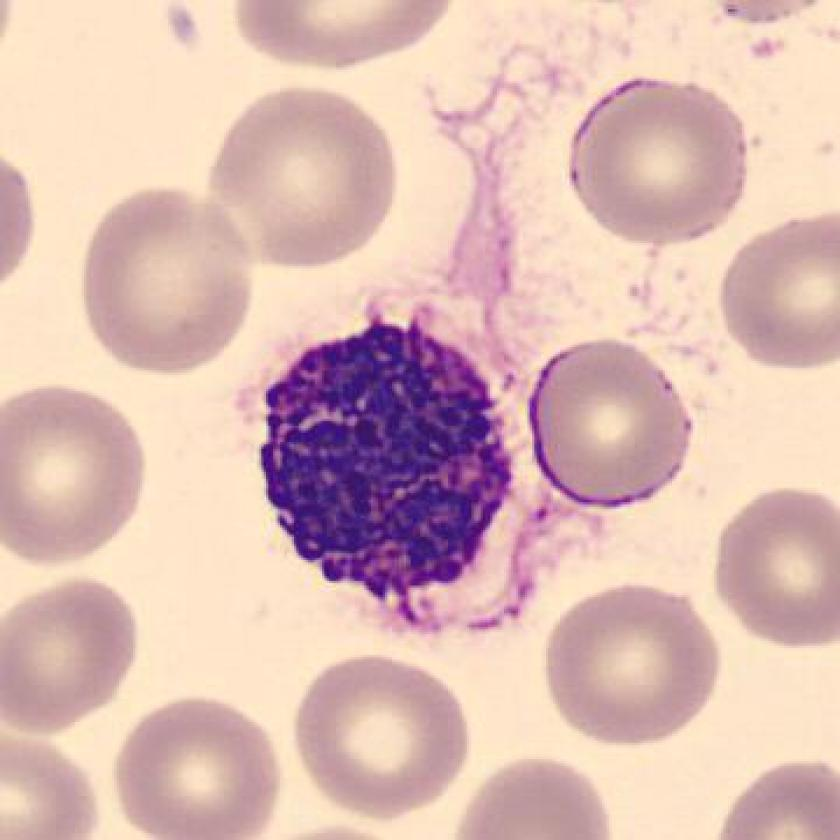basophil: (251, 304, 538, 640)
